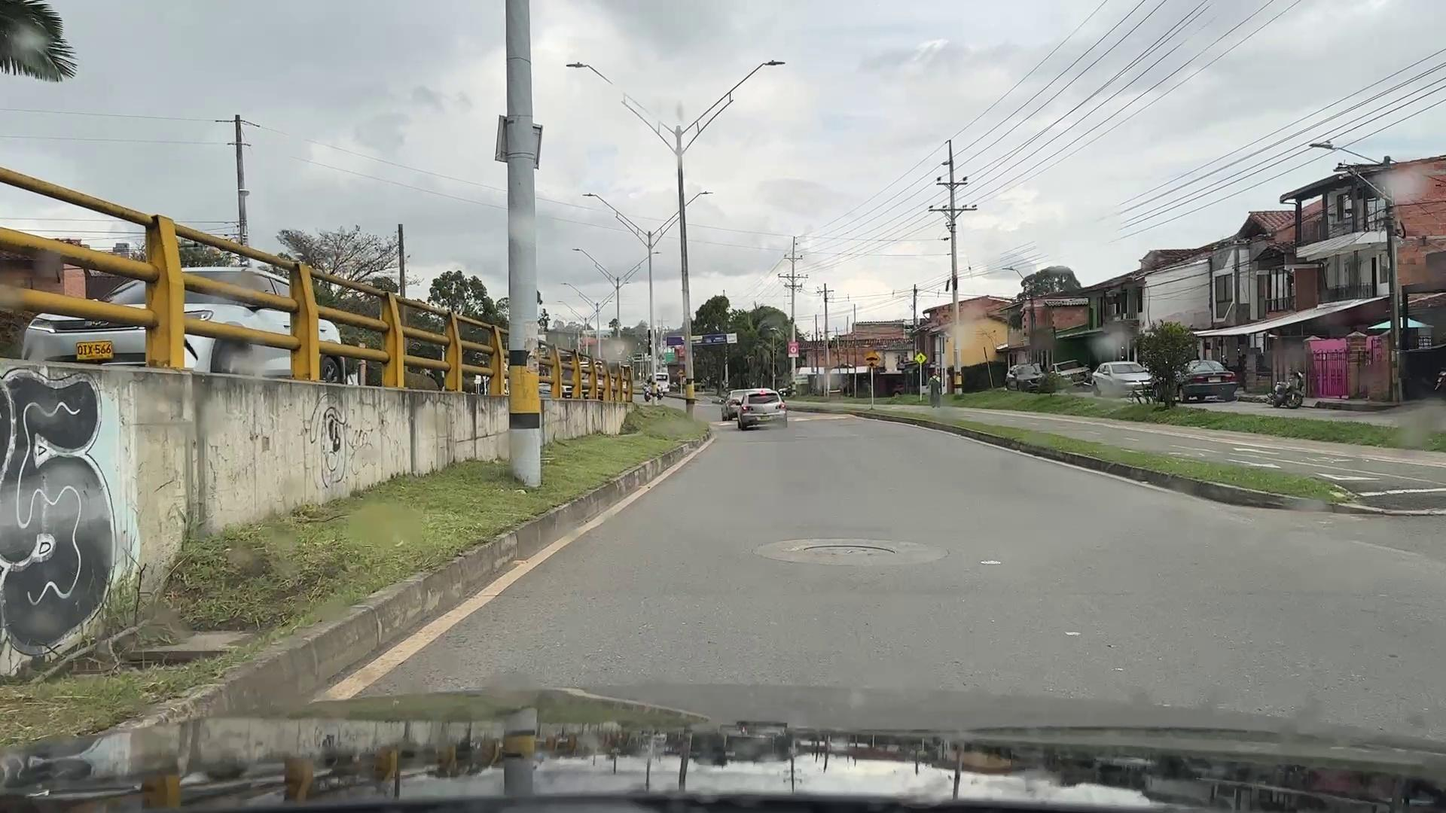registro: (804, 545, 895, 555)
